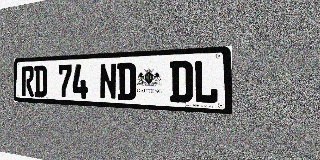4: (72, 64, 88, 99)
7: (58, 65, 72, 98)
D: (170, 60, 193, 103), (117, 62, 136, 101), (34, 65, 47, 97)
L: (193, 60, 218, 104)
N: (100, 63, 117, 100)
R: (22, 66, 34, 97)
